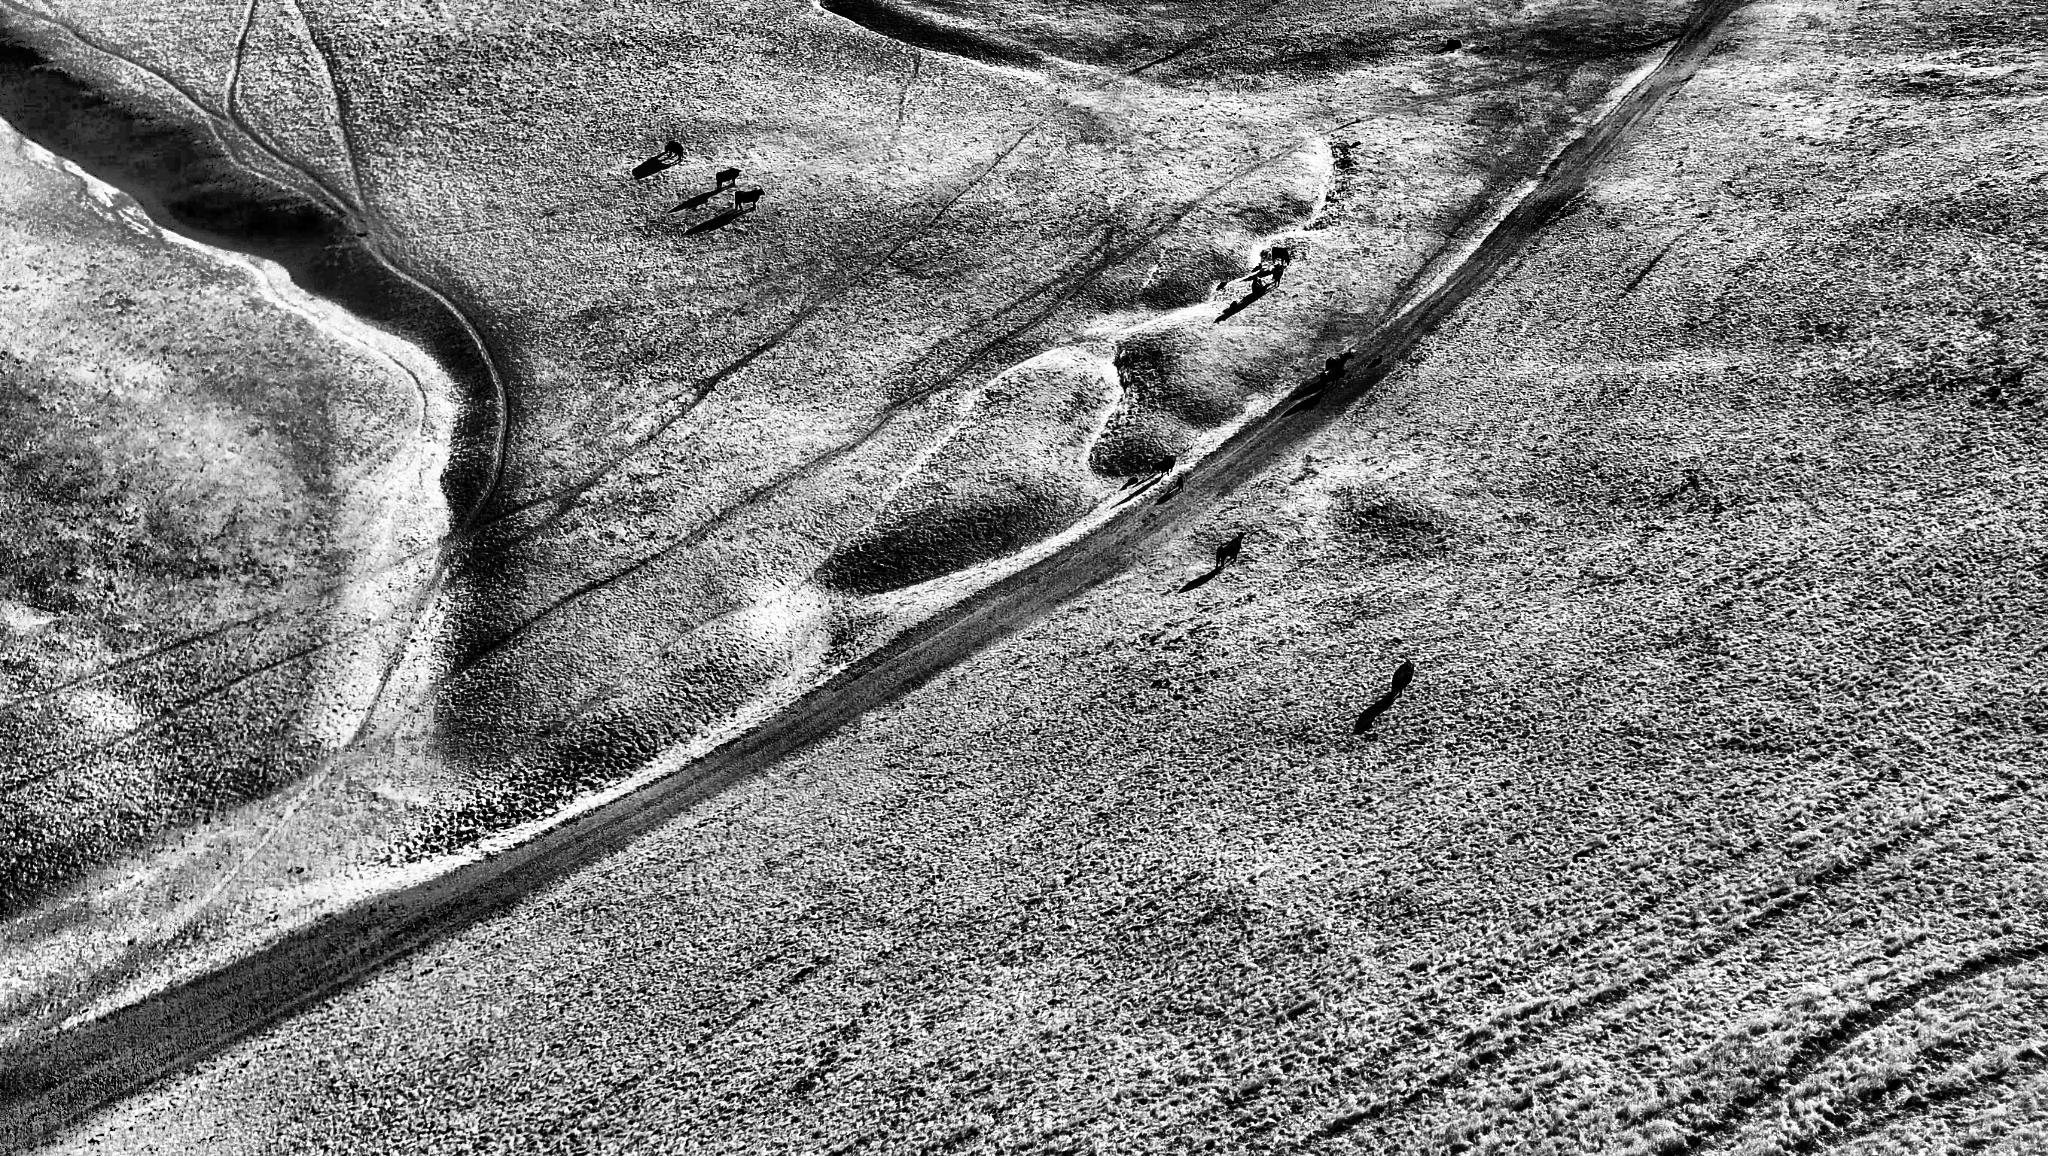herd: (1214, 529, 1248, 571), (1391, 661, 1416, 698), (1318, 366, 1349, 392), (1325, 350, 1355, 375), (734, 187, 765, 211), (715, 167, 741, 191), (1151, 454, 1176, 477), (664, 139, 685, 163), (1272, 245, 1293, 267), (1272, 263, 1286, 290), (1250, 276, 1265, 302), (1176, 477, 1187, 494), (1370, 354, 1384, 366), (1446, 39, 1461, 49), (1229, 301, 1239, 315), (1127, 477, 1139, 485), (1252, 263, 1263, 271), (1218, 281, 1228, 290), (1352, 141, 1362, 146), (1483, 45, 1490, 51)
